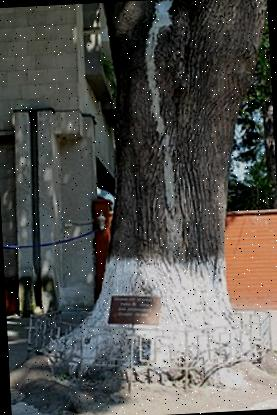tree: (49, 0, 277, 386)
